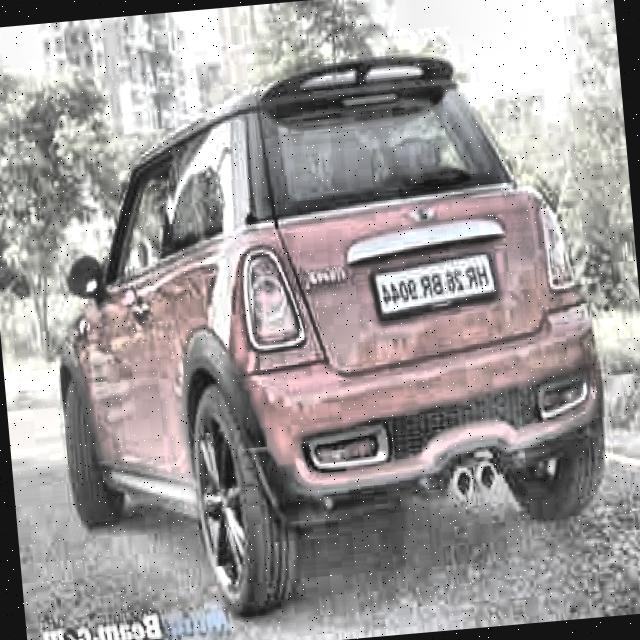license_plate: (375, 252, 498, 318)
